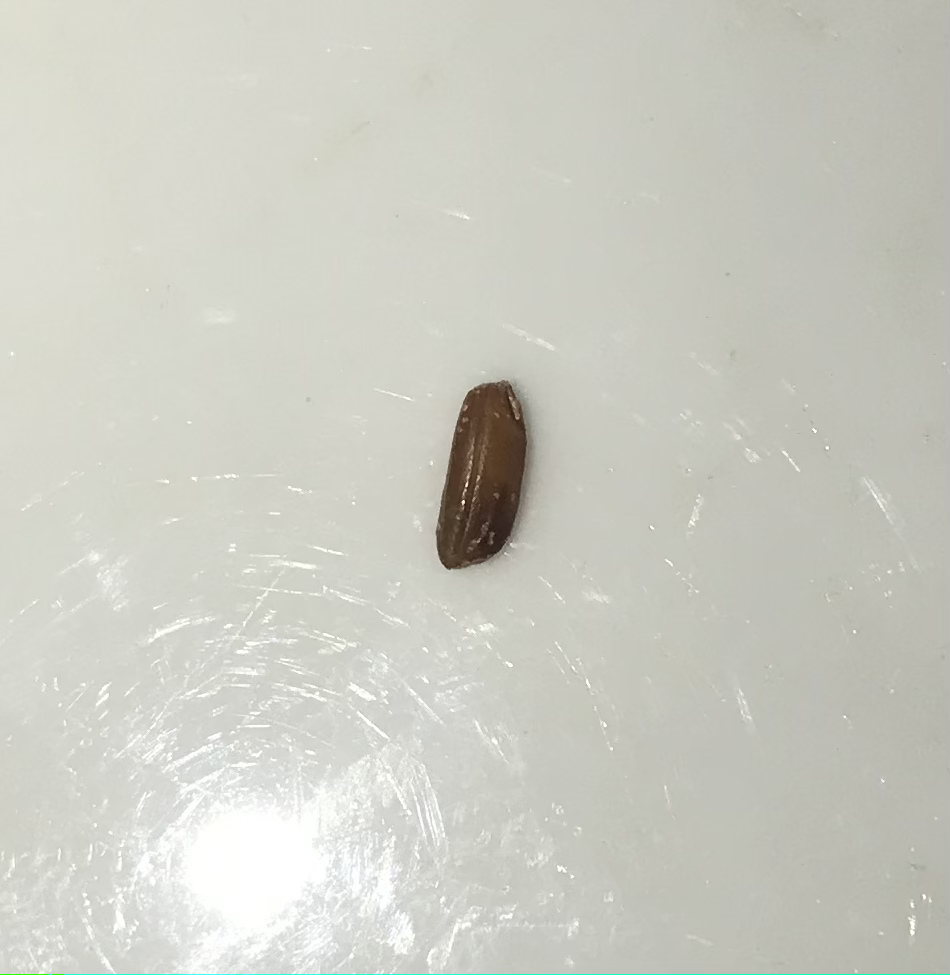Gao Lut Do: (429, 367, 531, 578)
